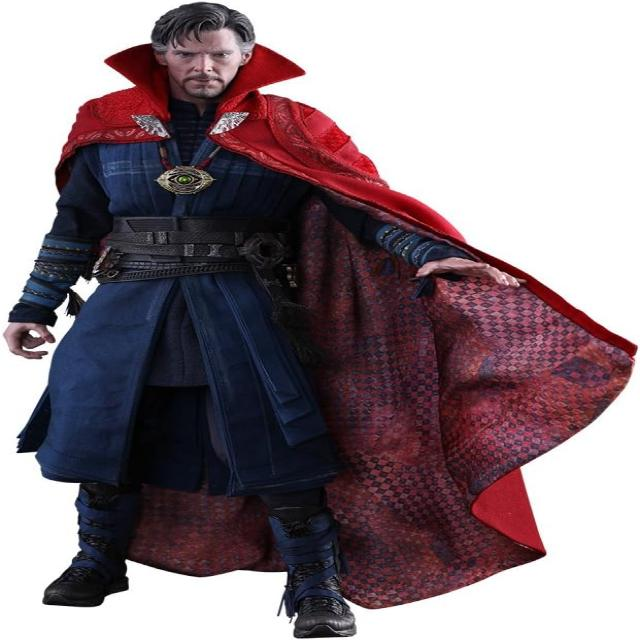doctor_strange: (33, 3, 568, 640)
